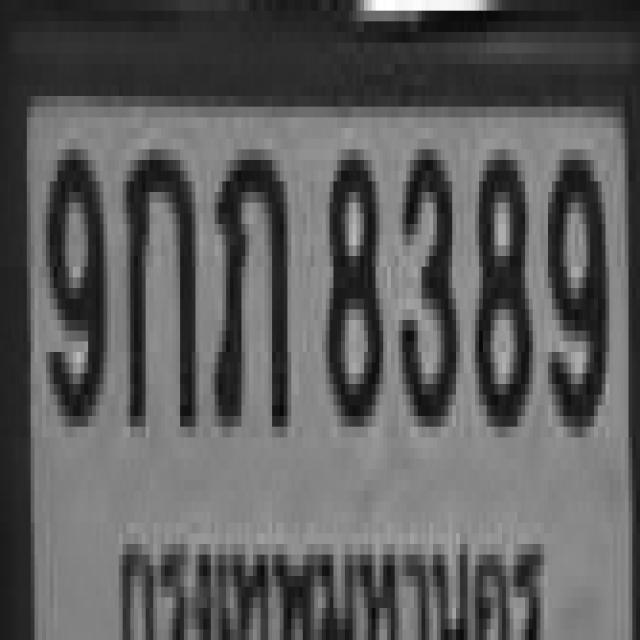10GorGai: (122, 139, 192, 416)
3: (399, 139, 452, 416)
41PhorSamPhao: (209, 139, 285, 416)
8: (471, 139, 529, 416), (322, 139, 379, 416)
9: (42, 139, 104, 416), (544, 139, 602, 416)
